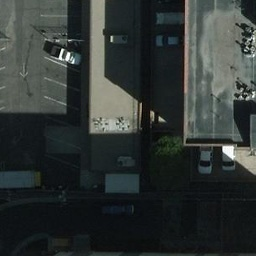car: (98, 203, 139, 221), (47, 47, 80, 67), (197, 142, 213, 173), (151, 34, 183, 49), (222, 146, 239, 174)
